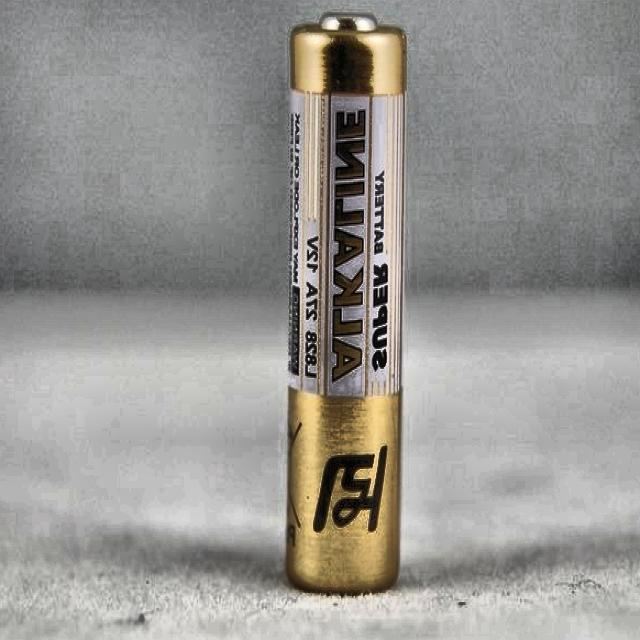Non-Valuable Waste - Batteries: (285, 13, 406, 592)
